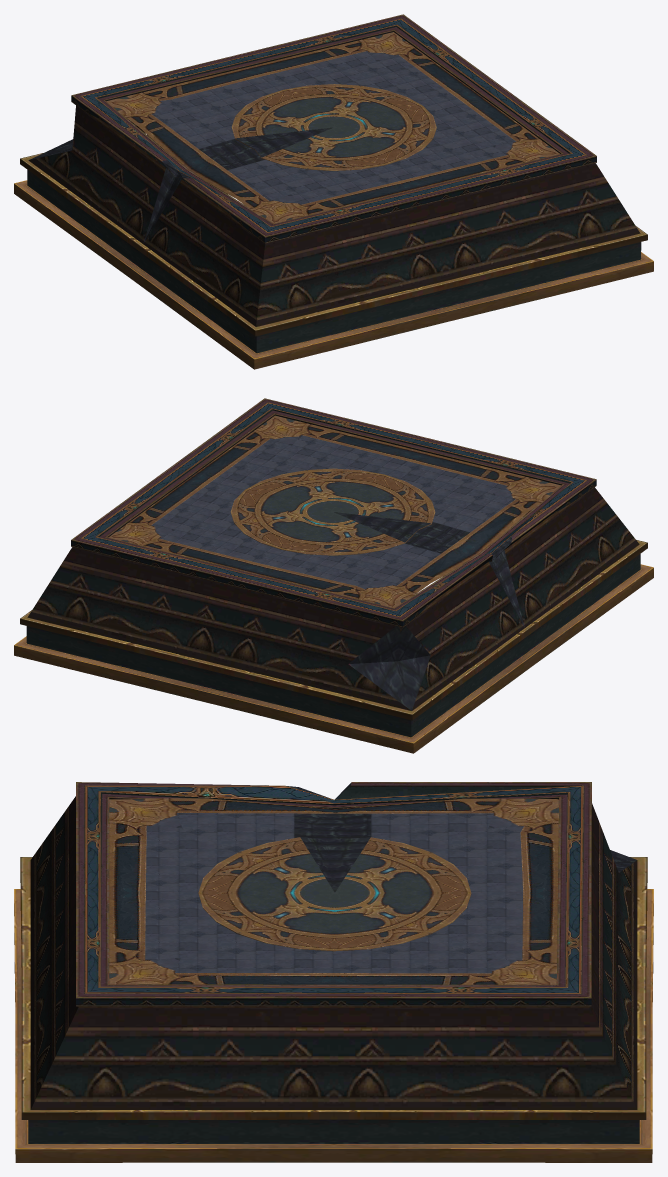
File: Yland2_tz_02 Yland2.FBX
3 renders of one model, top to bottom at view 1: azimuth 30°, elevation 25°; view 2: azimuth 150°, elevation 25°; view 3: azimuth 270°, elevation 25°, orthographic. The views are drawn at different scales.
Visible parts, largest first — view 1: Yland2_tz_02 Yland2; view 2: Yland2_tz_02 Yland2; view 3: Yland2_tz_02 Yland2.
Boxes of the visible parts, <box> form: Yland2_tz_02 Yland2: <box>14,14,653,369</box>; Yland2_tz_02 Yland2: <box>14,398,653,753</box>; Yland2_tz_02 Yland2: <box>14,782,653,1162</box>.
Size of the model in its own units: 23.24 by 5.95 by 24.17.
